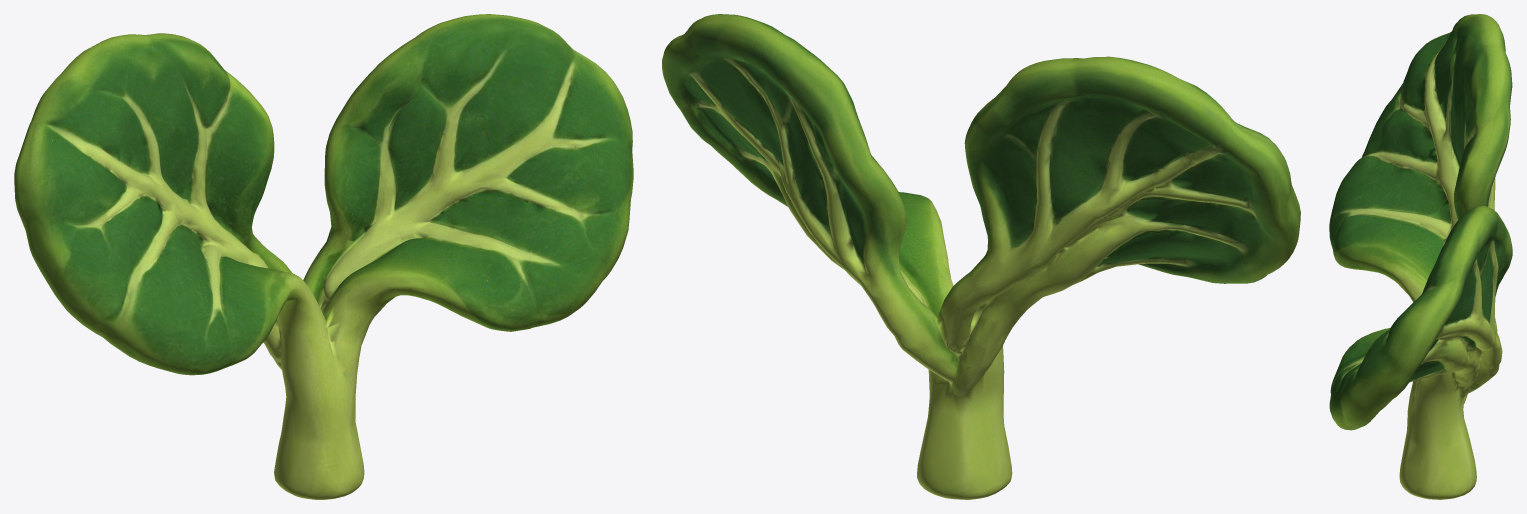
The model's file is cabbage-sprout.glb.
3 renders of one model, left to right at view 1: azimuth 30°, elevation 25°; view 2: azimuth 150°, elevation 25°; view 3: azimuth 270°, elevation 25°, orthographic. The views are drawn at different scales.
Size of the model in its own units: 1.9 by 1.43 by 0.6019.
Materials: 1 (1 with a texture image).
